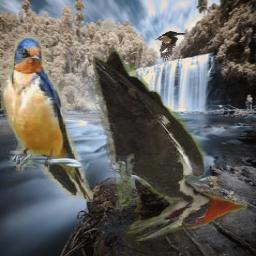Swallow: (1, 36, 93, 203)
Woodpecker: (93, 51, 247, 242), (155, 31, 186, 61)
